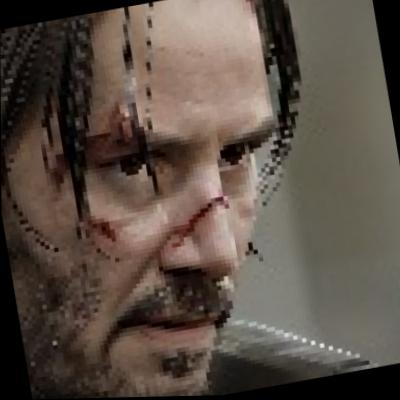angry: (0, 0, 294, 400)
